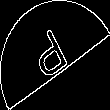P_SE: (31, 24, 79, 86)
